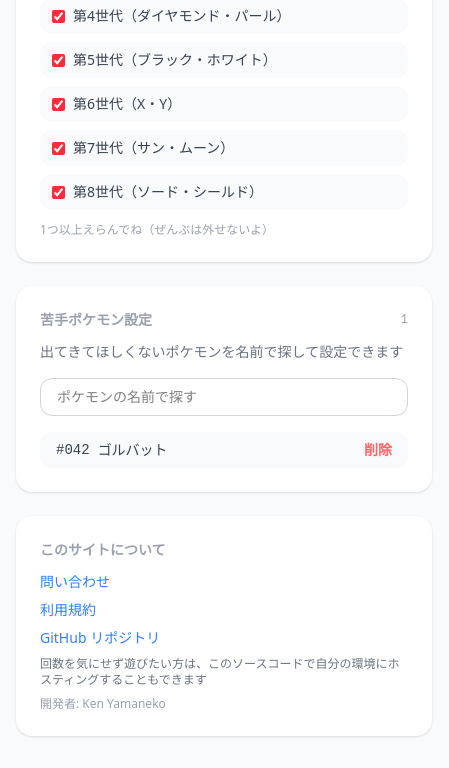
Test case: [設定] 苦手ポケモン設定 › 正常系 › ゴルバット (図鑑番号 42) を除外済みの状態で、「削除」を押したとき › 「除外ポケモンはいません」と表示される
(page scrolled)
Expected: the text "#042" is shown, [56, 440, 90, 460]
Click the button "削除": [378, 450] box [364, 440, 392, 460]
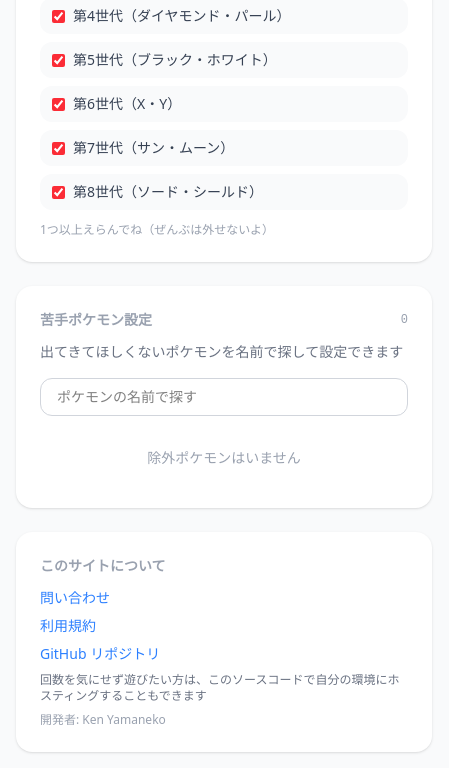
Now the text "除外ポケモンはいません" is shown, box [147, 448, 301, 467]
Now the text "#042" is gone
